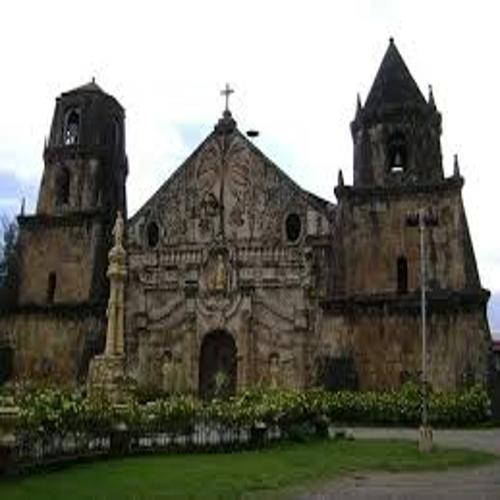Miagao Church: (7, 30, 500, 429)
